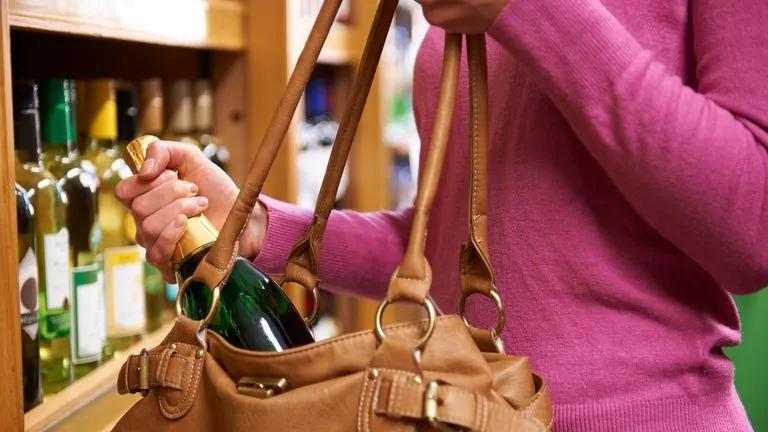shoplifting: (40, 0, 516, 428)
